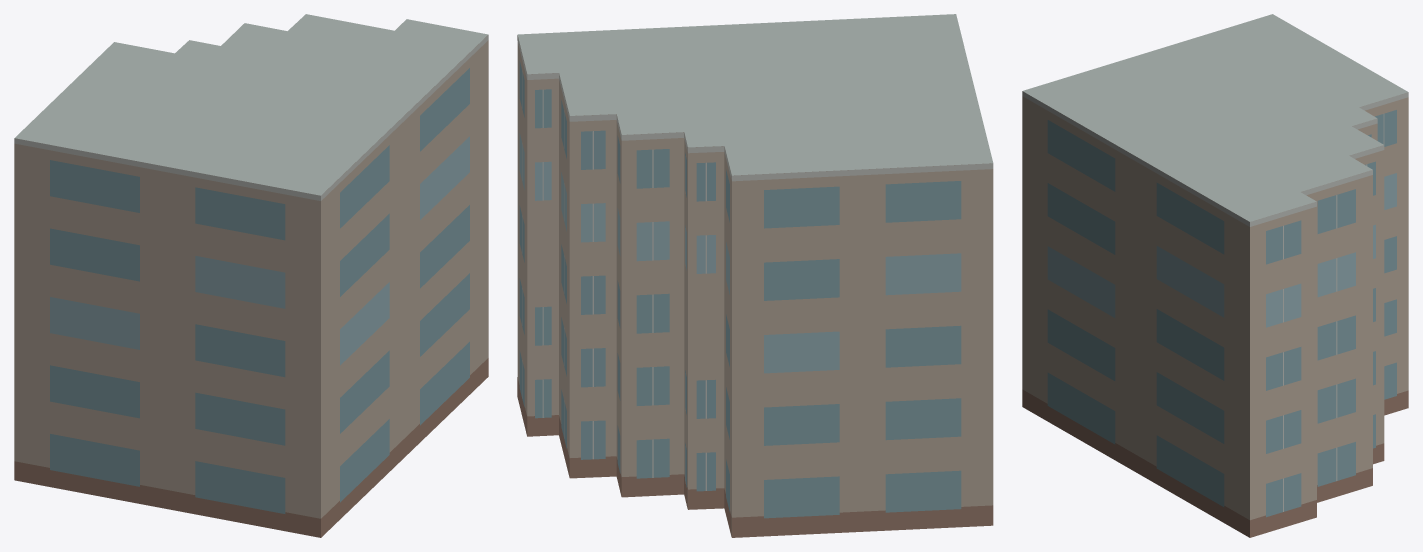
Rendered from survey-upis-32756819.glb.
3 renders of one model, left to right at view 1: azimuth 30°, elevation 25°; view 2: azimuth 150°, elevation 25°; view 3: azimuth 270°, elevation 25°, orthographic. The views are drawn at different scales.
Parts seen in each view (by area): view 1: survey-upis-32756819.tmp; view 2: survey-upis-32756819.tmp; view 3: survey-upis-32756819.tmp.
Part boxes in pixels (x1,y1,x2,y2): survey-upis-32756819.tmp: (14,14,488,537); survey-upis-32756819.tmp: (517,14,993,537); survey-upis-32756819.tmp: (1022,14,1408,537).
Bounding box in the file's own units: 21.54 × 15.25 × 16.91.
